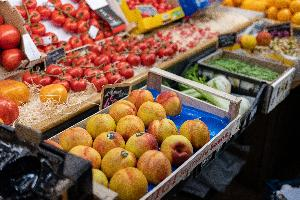peach: (70, 84, 216, 200)
tomato: (11, 30, 175, 90), (19, 0, 112, 58), (123, 1, 181, 34)
